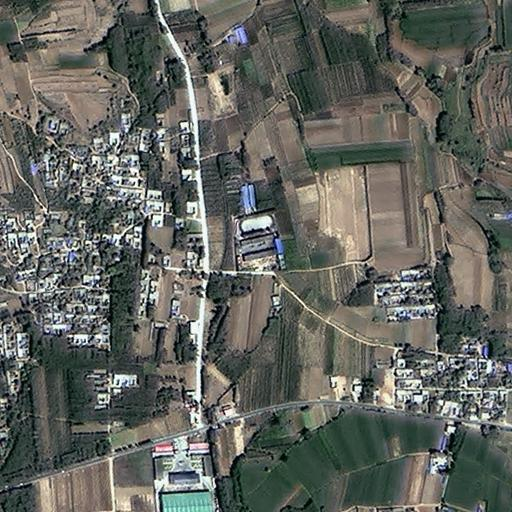school: (232, 203, 284, 269)
